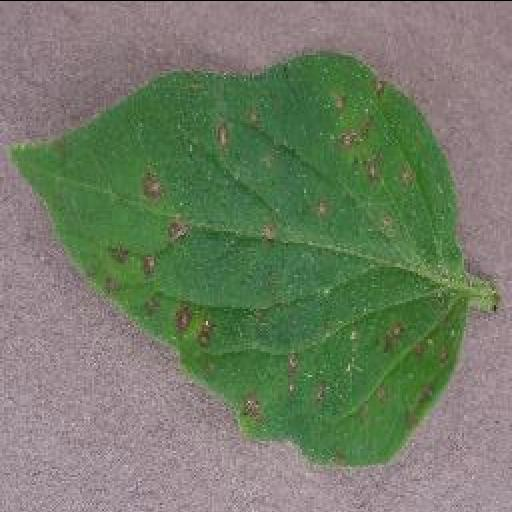disease_tomato: (14, 45, 466, 466)
